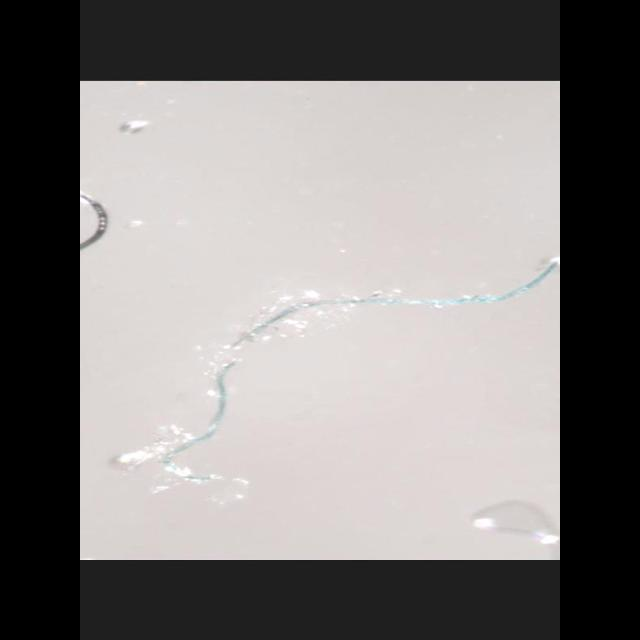Fibre: (106, 253, 560, 501)
